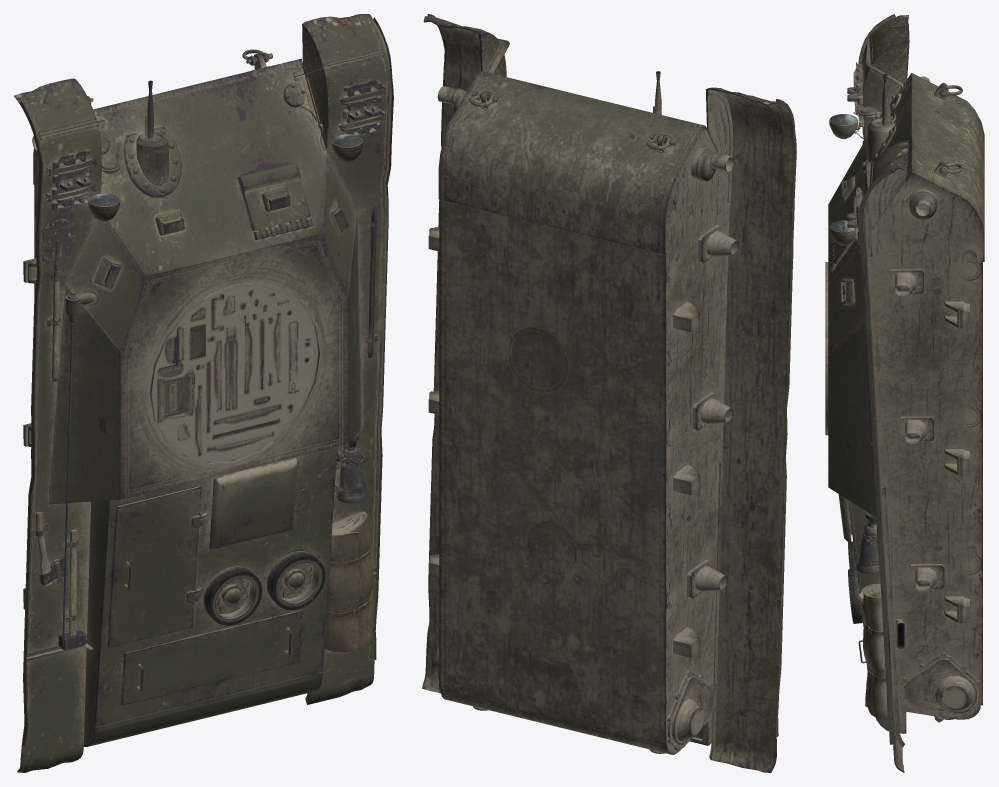
Rendered from Hull.glb.
The picture shows the model from 3 angles, left to right: view 1: azimuth 30°, elevation 25°; view 2: azimuth 150°, elevation 25°; view 3: azimuth 270°, elevation 25°; orthographic projection. The views are drawn at different scales.
Visible parts, largest first — view 1: set_0_group_0; view 2: set_0_group_0; view 3: set_0_group_0.
Boxes of the visible parts, x1,y1,x2,y2 form: set_0_group_0: [14, 14, 393, 772]; set_0_group_0: [422, 14, 796, 772]; set_0_group_0: [825, 14, 984, 772].
Bounding box in the file's own units: 2.49 × 4.59 × 1.08.
Materials: 1 (1 with a texture image).
